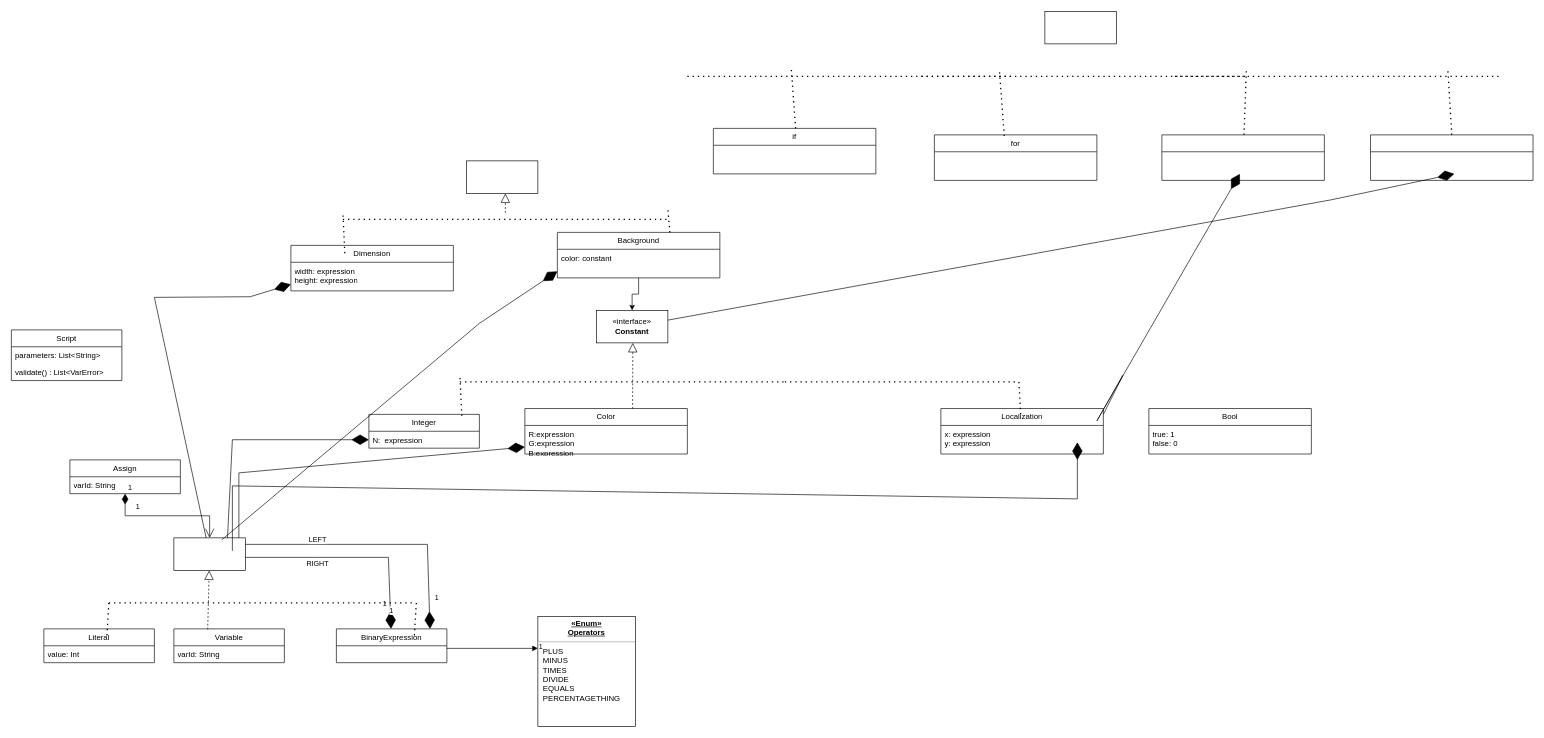
This 1544x738 diagram has some shape labels left out. Each missing label, with the centre of its shape:
AuxColor: the point at 1451,157
figure: the point at 1242,157
«interface» Expression: the point at 209,553
«interface» Instruction: the point at 1080,27
«interface» Property: the point at 502,176
